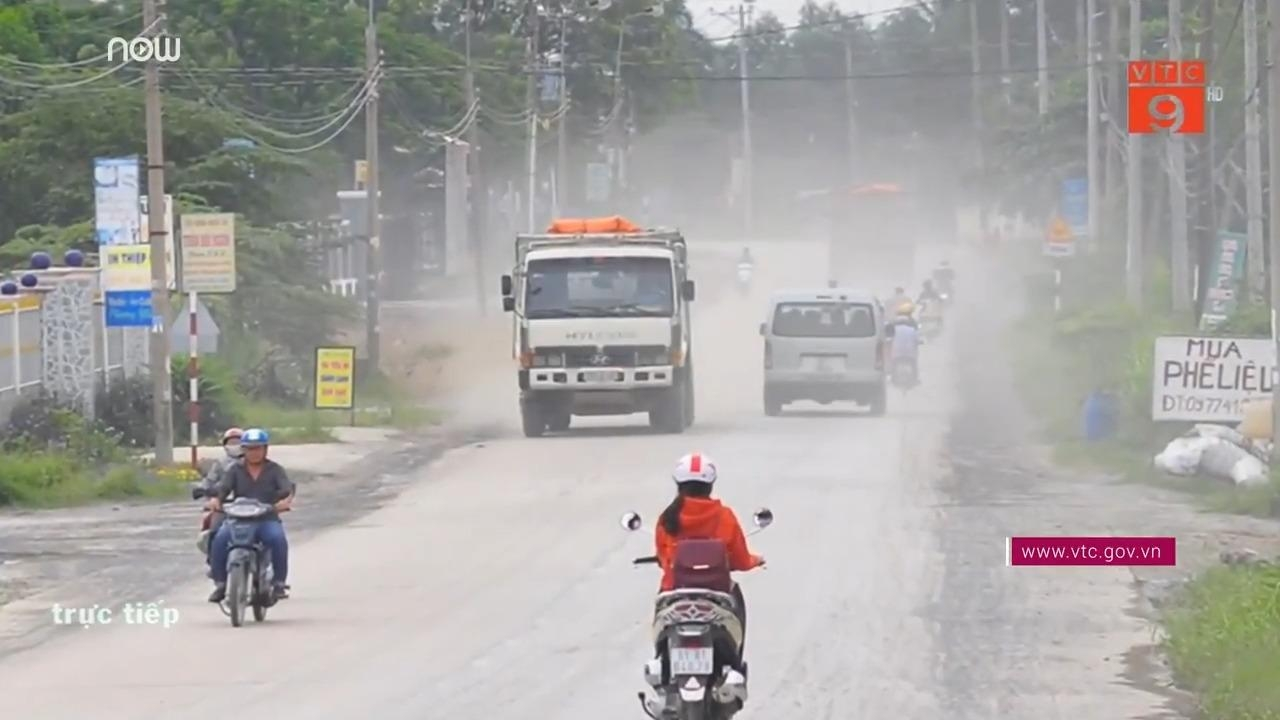car: (760, 284, 887, 417)
motorcycle: (619, 507, 773, 718), (192, 481, 295, 626), (884, 320, 924, 393), (916, 302, 945, 346), (734, 258, 759, 300), (934, 282, 959, 308)
truck: (500, 215, 695, 437), (828, 177, 916, 287)
